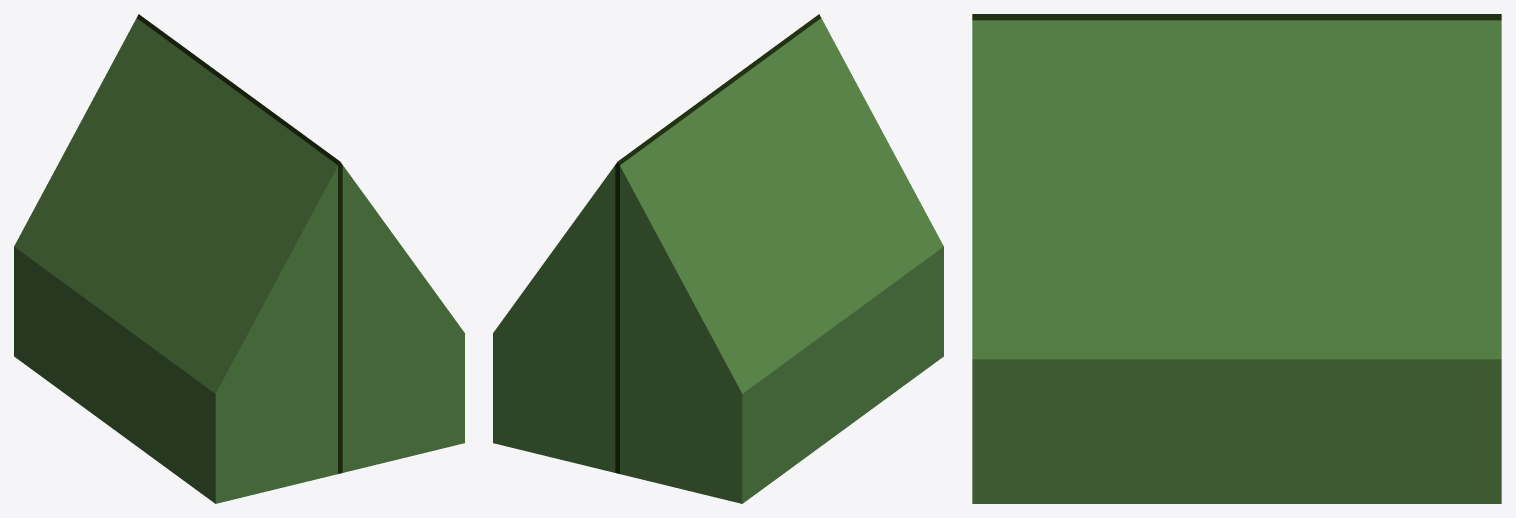
Rendered from Tent.fbx.
The picture shows the model from 3 angles, left to right: view 1: azimuth 30°, elevation 25°; view 2: azimuth 150°, elevation 25°; view 3: azimuth 270°, elevation 25°; orthographic projection. The views are drawn at different scales.
Visible parts, largest first — view 1: Tent; view 2: Tent; view 3: Tent.
Part boxes in pixels (x1,y1,x2,y2): Tent: [14, 14, 464, 503]; Tent: [493, 14, 943, 503]; Tent: [972, 14, 1501, 503].
Bounding box in the file's own units: 457 × 547 × 640.
